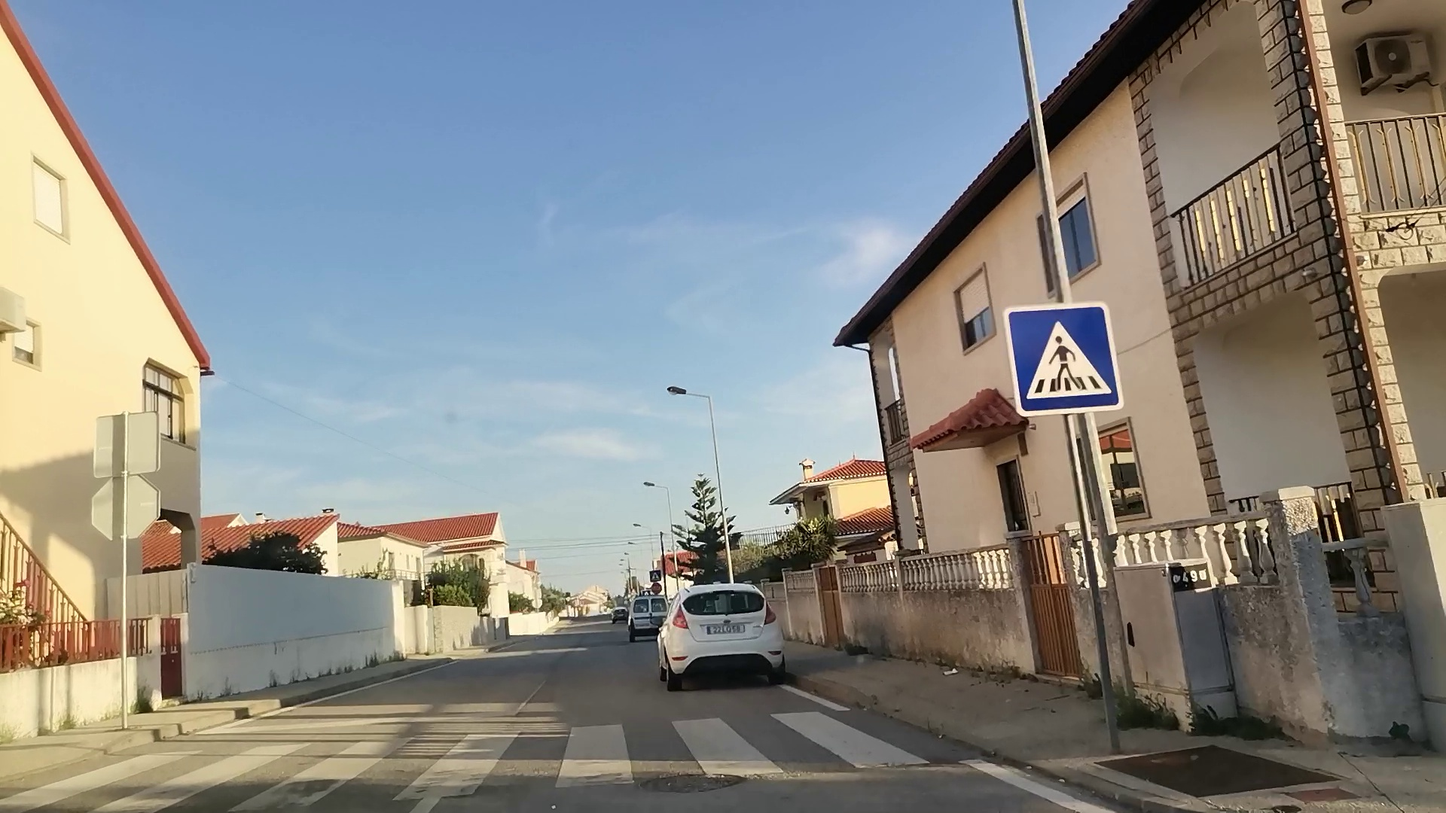Stairs: (0, 709, 931, 813)
